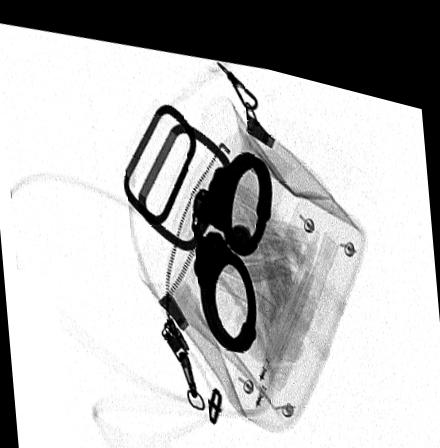HandCuffs: (190, 138, 272, 340)
